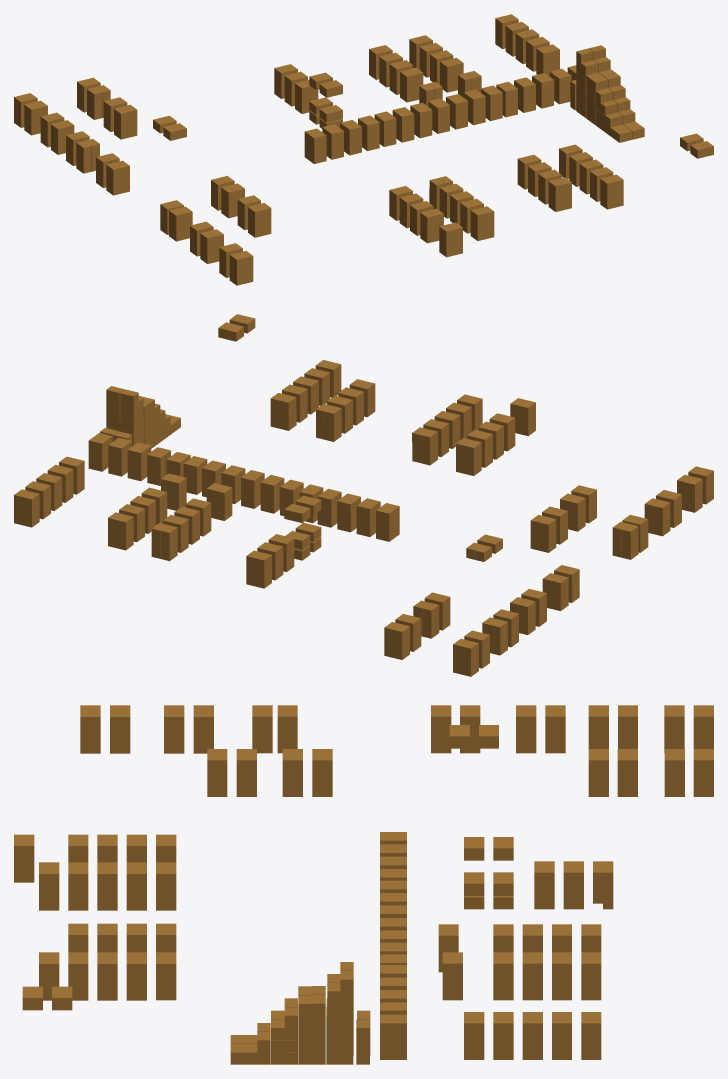
File: caixas_level1.fbx
3 views of the same model, one above another, from view 1: azimuth 30°, elevation 25°; view 2: azimuth 150°, elevation 25°; view 3: azimuth 270°, elevation 25° (orthographic). The views are drawn at different scales.
Visible parts, largest first — view 1: box2.056; view 2: box2.056; view 3: box2.056.
Boxes of the visible parts, x1,y1,x2,y2 form: box2.056: (14, 14, 713, 285); box2.056: (14, 314, 713, 676); box2.056: (14, 705, 713, 1064).
Size of the model in its own units: 3104 by 386 by 2871.
